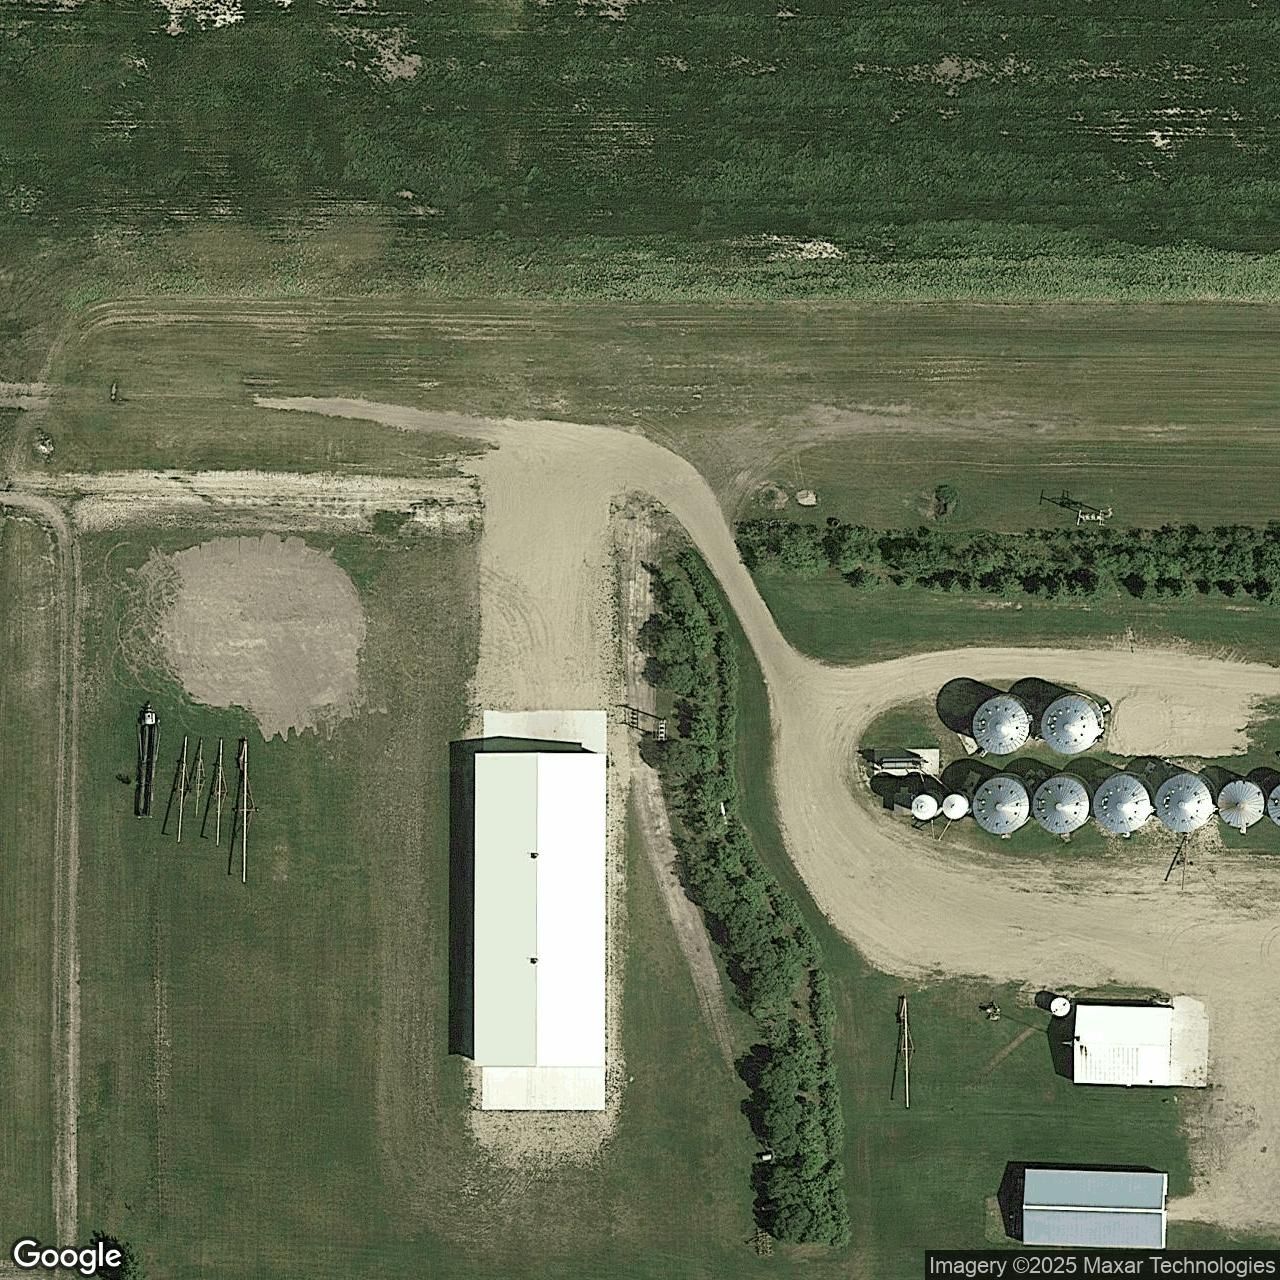Other: (474, 751, 606, 1111), (1023, 1167, 1167, 1248), (1074, 1005, 1176, 1085)
